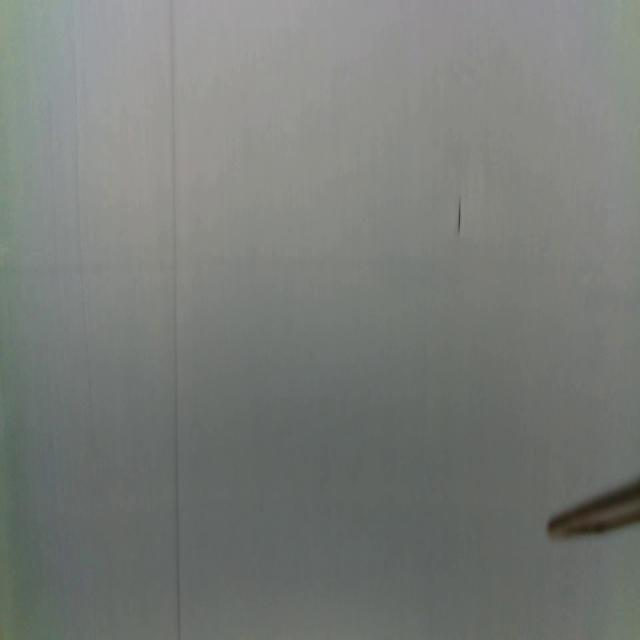crease: (169, 0, 182, 640)
hole: (458, 194, 462, 237)
